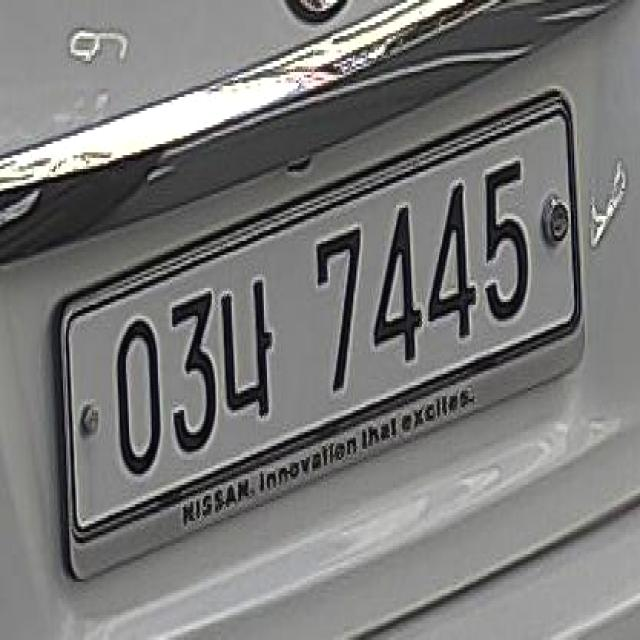illegal_plate: (56, 90, 594, 578)
